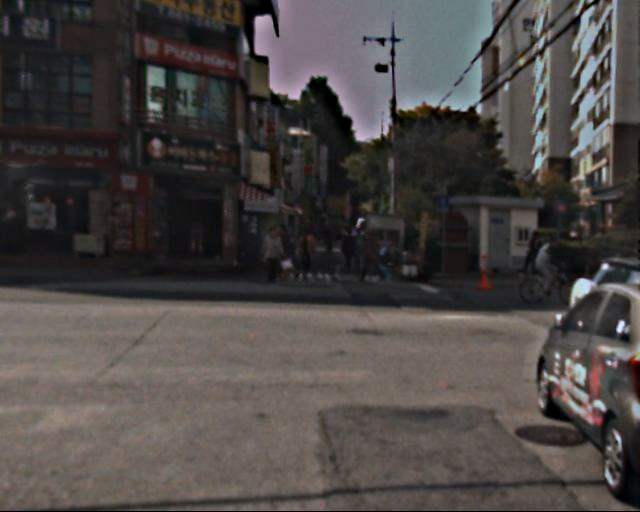person: (537, 234, 563, 298), (279, 220, 302, 276), (261, 225, 284, 281), (361, 225, 384, 280), (526, 226, 548, 279), (341, 221, 363, 274), (298, 220, 319, 270), (380, 235, 398, 279), (323, 217, 337, 251)
